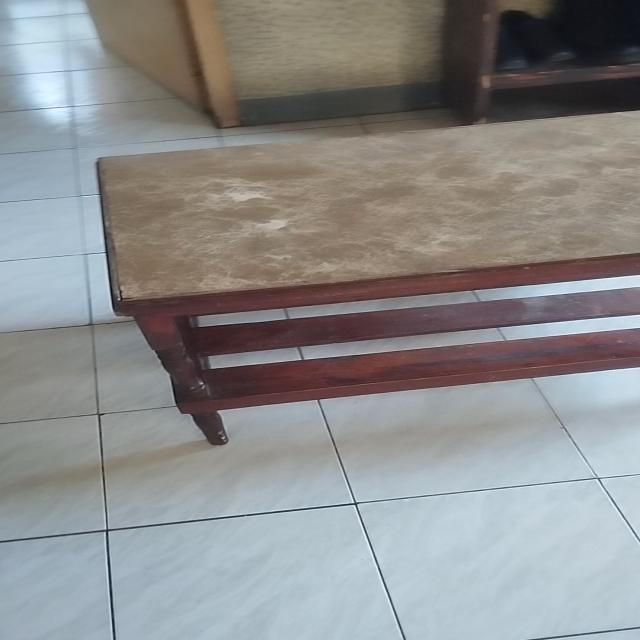table: (87, 105, 640, 450)
